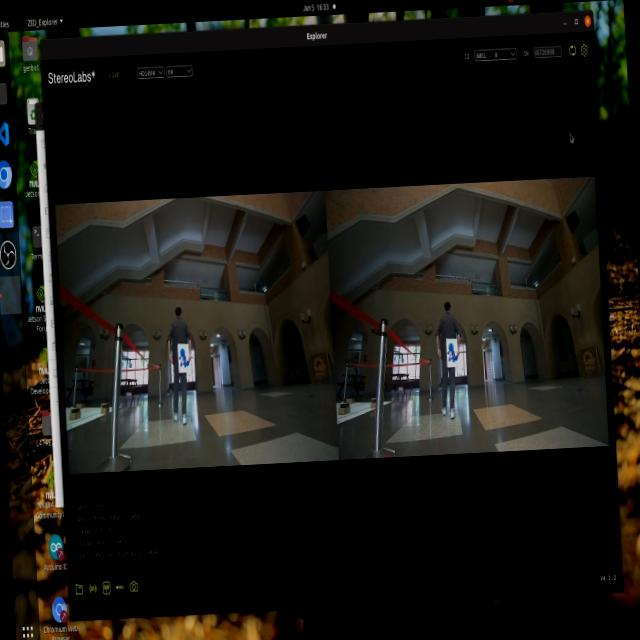blue: (177, 346, 190, 376), (444, 338, 457, 366)
